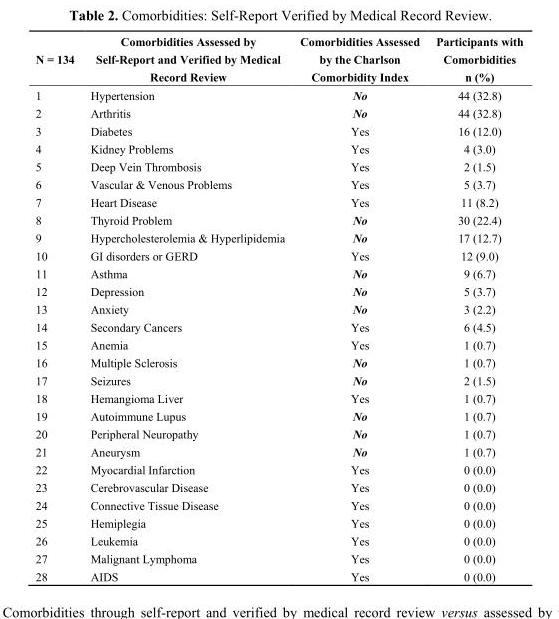table: (34, 34, 522, 582)
table column: (81, 34, 291, 582), (291, 34, 427, 582), (427, 34, 522, 582), (34, 34, 81, 582)
table column header: (34, 34, 522, 85)
table row: (34, 34, 522, 85), (34, 85, 522, 103), (34, 103, 522, 121), (34, 121, 522, 139), (34, 139, 522, 157), (34, 157, 522, 175), (34, 192, 522, 210), (34, 210, 522, 228), (34, 228, 522, 246), (34, 246, 522, 264), (34, 264, 522, 282), (34, 299, 522, 317), (34, 317, 522, 335), (34, 335, 522, 353), (34, 353, 522, 371), (34, 371, 522, 389), (34, 406, 522, 424), (34, 424, 522, 442), (34, 442, 522, 460), (34, 460, 522, 478), (34, 495, 522, 513), (34, 513, 522, 531), (34, 531, 522, 549), (34, 549, 522, 567), (34, 175, 522, 192), (34, 282, 522, 299), (34, 389, 522, 406), (34, 478, 522, 495), (34, 567, 522, 582)
